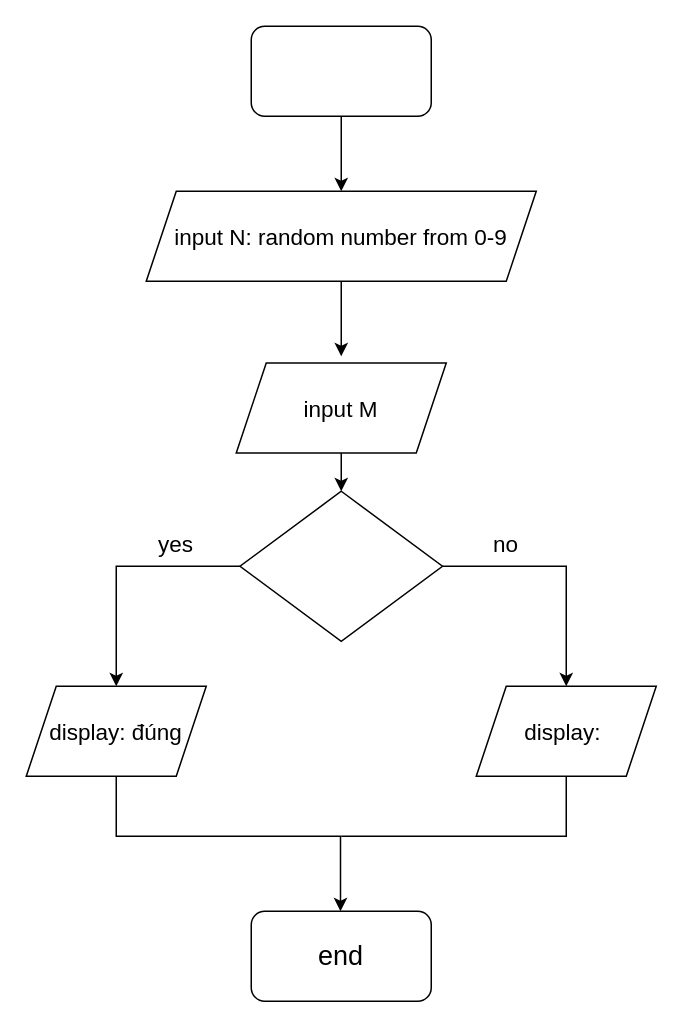
The diagram is 683 pixels wide and 1028 high, and some of its shapes have lost their labels. The centre of each missing label's shape, as x and y in pixels:
"begin" belongs at (x=340, y=70).
"N=M" belongs at (x=340, y=565).
